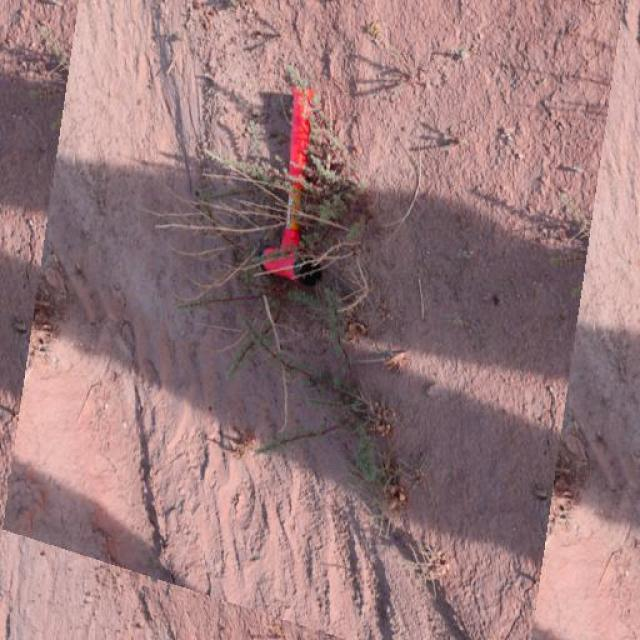mallet: (260, 74, 325, 286)
